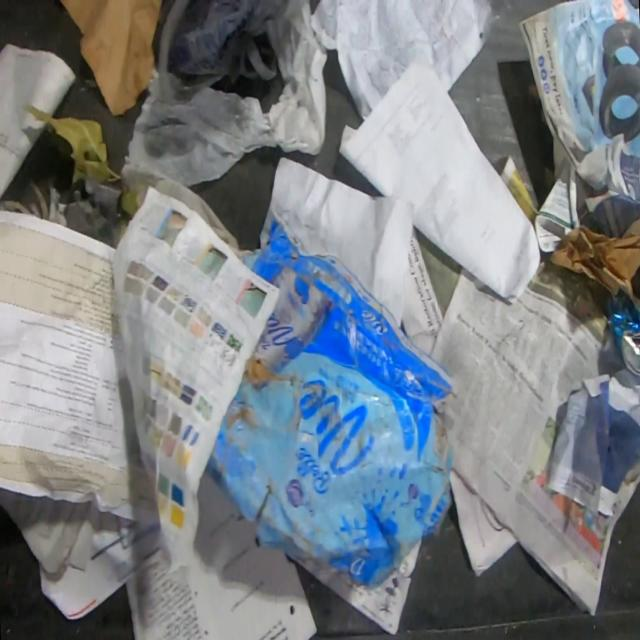cardboard: (206, 209, 455, 588)
metal: (605, 295, 640, 383)
soft_plastic: (123, 1, 329, 187)
